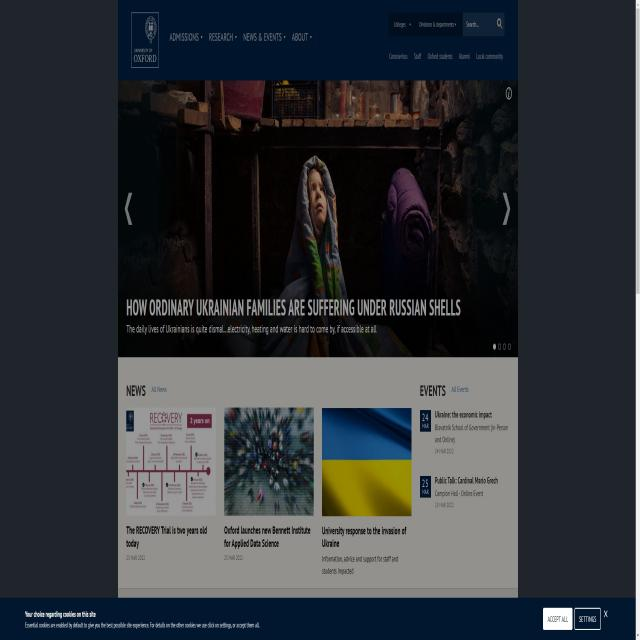menu-bar: (382, 49, 508, 68)
search: (462, 13, 505, 39)
tab-bar: (163, 23, 314, 49), (386, 10, 461, 35)
